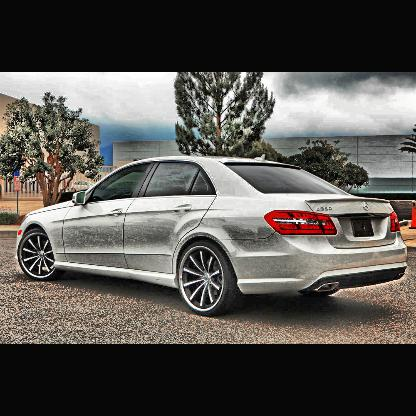Mercedes-Benz E-Class Sedan 2012: (14, 153, 412, 317)
